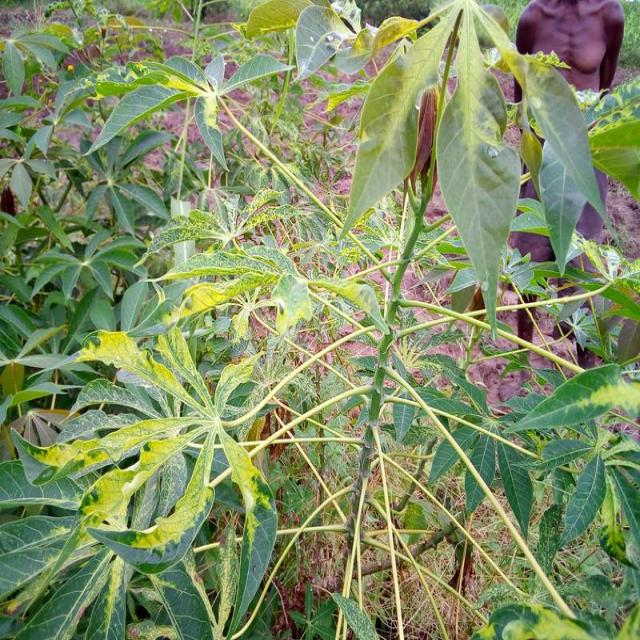cassava leaf: (1, 1, 638, 638), (434, 1, 522, 341)
